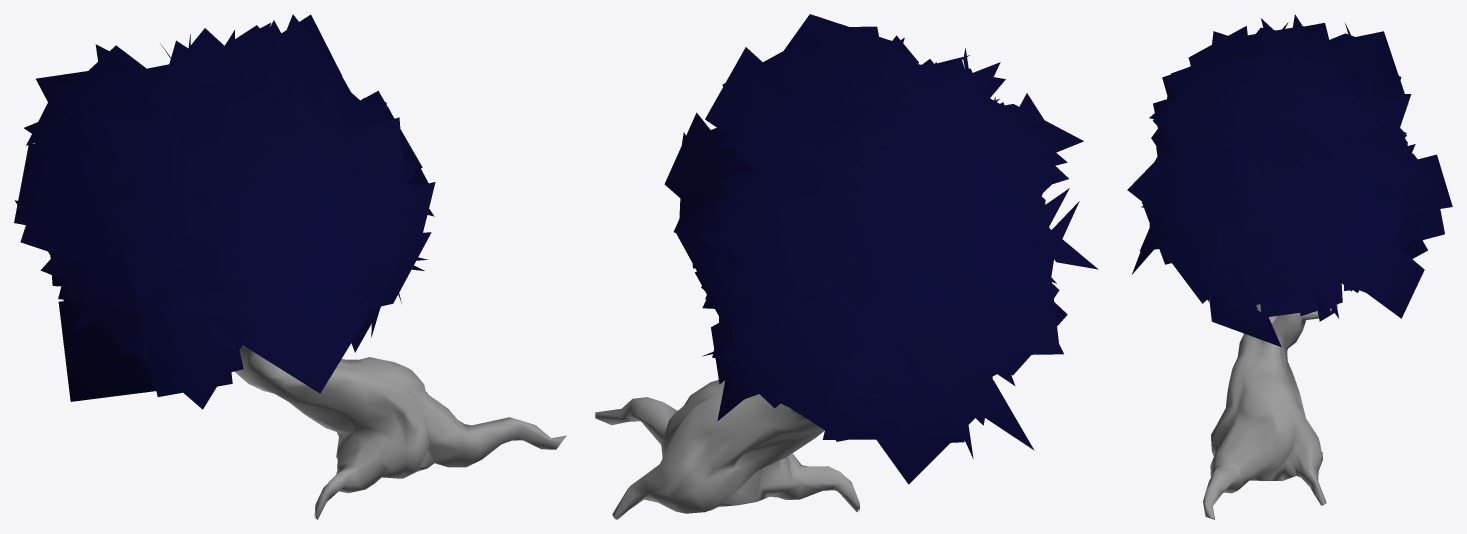
The model's file is tree4_low.fbx.
3 renders of one model, left to right at view 1: azimuth 30°, elevation 25°; view 2: azimuth 150°, elevation 25°; view 3: azimuth 270°, elevation 25°, orthographic. The views are drawn at different scales.
Parts seen in each view (by area): view 1: tree4_leaf, tree4_low; view 2: tree4_leaf, tree4_low; view 3: tree4_leaf, tree4_low.
Boxes of the visible parts, bbox=[...] form: tree4_leaf: bbox=[14, 14, 435, 409]; tree4_low: bbox=[234, 345, 566, 519]; tree4_leaf: bbox=[664, 14, 1098, 484]; tree4_low: bbox=[595, 380, 859, 519]; tree4_leaf: bbox=[1127, 14, 1452, 346]; tree4_low: bbox=[1203, 304, 1338, 519].
Bounding box in the file's own units: 1129 × 1027 × 771.
